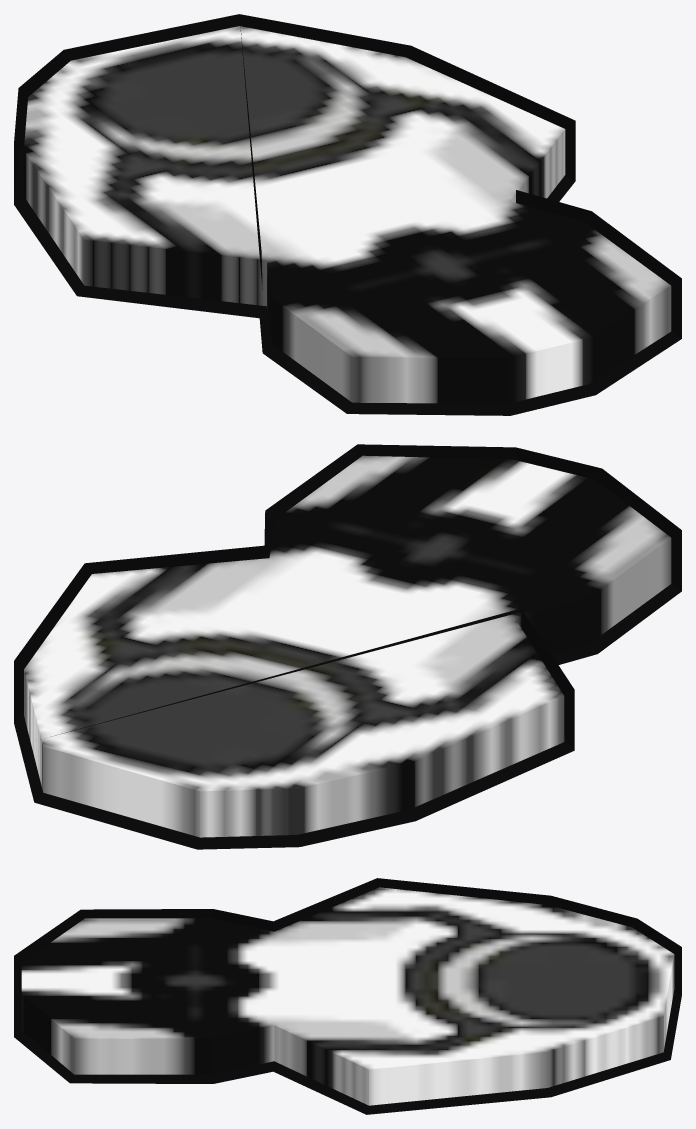
The model's file is Item_Apparel_PowerArmor_Things_Pawn_Humanlike_Apparel_PowerArmor_PowerArmor_Thin.glb.
3 views of the same model, one above another, from view 1: azimuth 30°, elevation 25°; view 2: azimuth 150°, elevation 25°; view 3: azimuth 270°, elevation 25° (orthographic). The views are drawn at different scales.
Visible parts, largest first — view 1: Body, Outline; view 2: Body, Outline; view 3: Body, Outline.
Boxes of the visible parts, x1,y1,x2,y2 form: Body: [23, 26, 671, 403]; Outline: [14, 14, 681, 415]; Body: [24, 455, 671, 837]; Outline: [14, 444, 681, 849]; Body: [21, 887, 674, 1105]; Outline: [14, 878, 681, 1114].
Size of the model in its own units: 0.3322 by 0.0431 by 0.4959.
2 materials, 1 textured.
